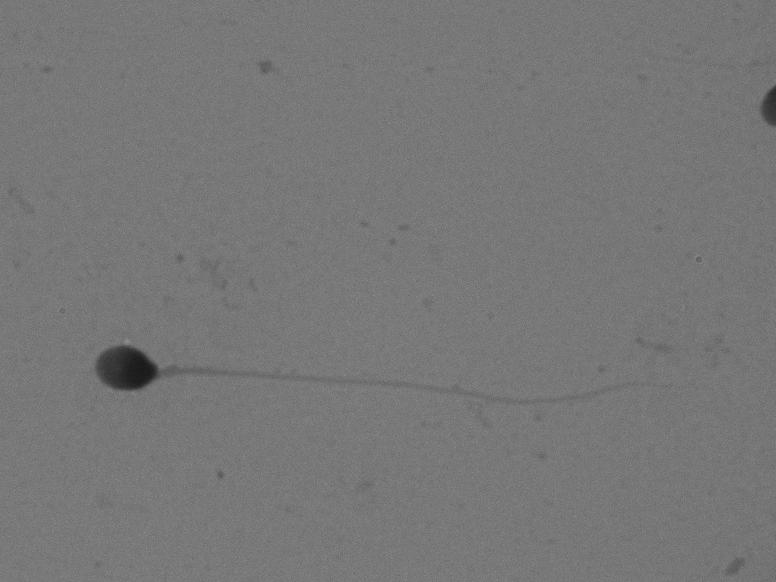Normal: (80, 322, 723, 430)
